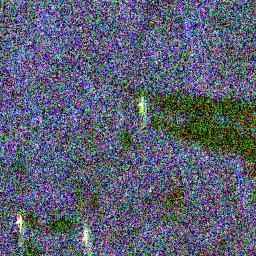Ship: (134, 96, 148, 118), (78, 225, 94, 243), (13, 215, 25, 231)
